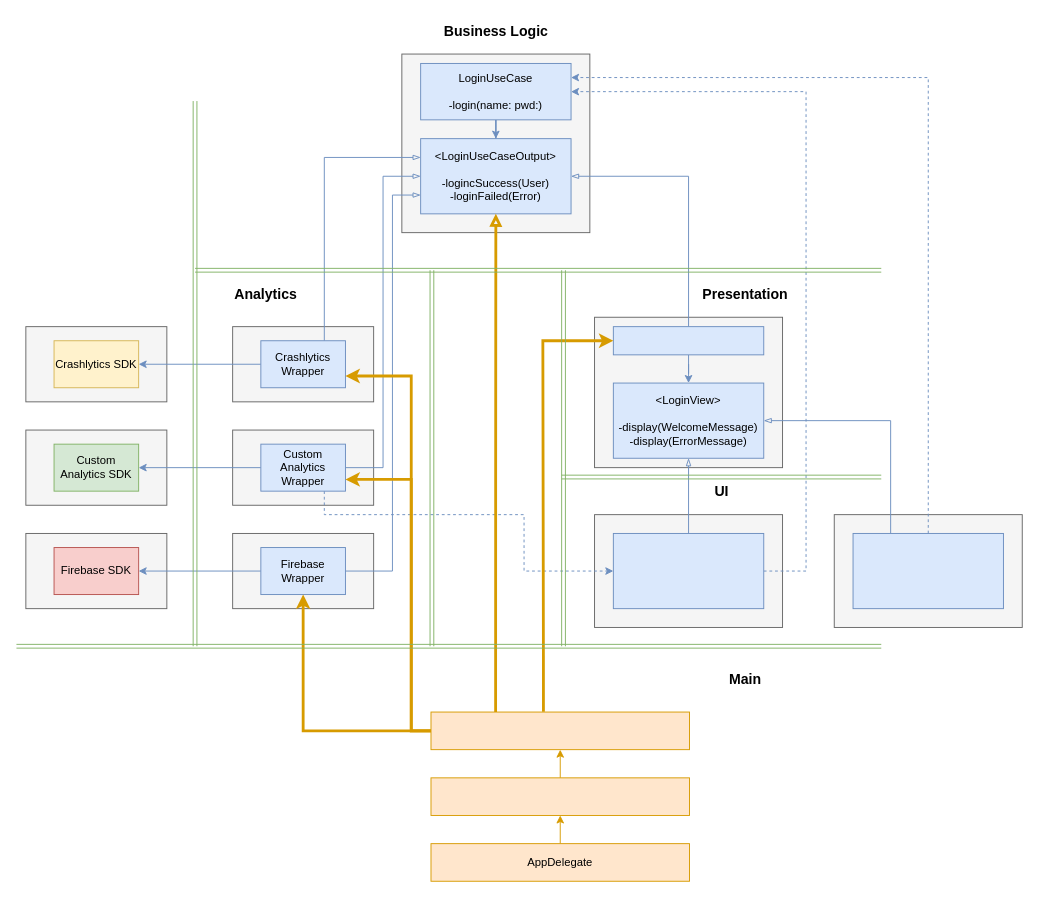
Image size: 1039x898. Some labels were removed from this diagram. The shapes that lost their labels are listed below. From the top down, each one's centre as x and y in pixels, then its label:
At (688,340): "LoginPresenter".
At (688,571): "LoginViewController (UIKit) -login: (String) -> () -viewDisplayed: () -> ()".
At (927,571): "LoginViewController (AppKit) -login: (String) -> () -viewDisplayed: () -> ()".
At (559,730): "ComposeLoginUseCaseDelegate".
At (559,796): "Flows / Factories / Assemblers / DI".
